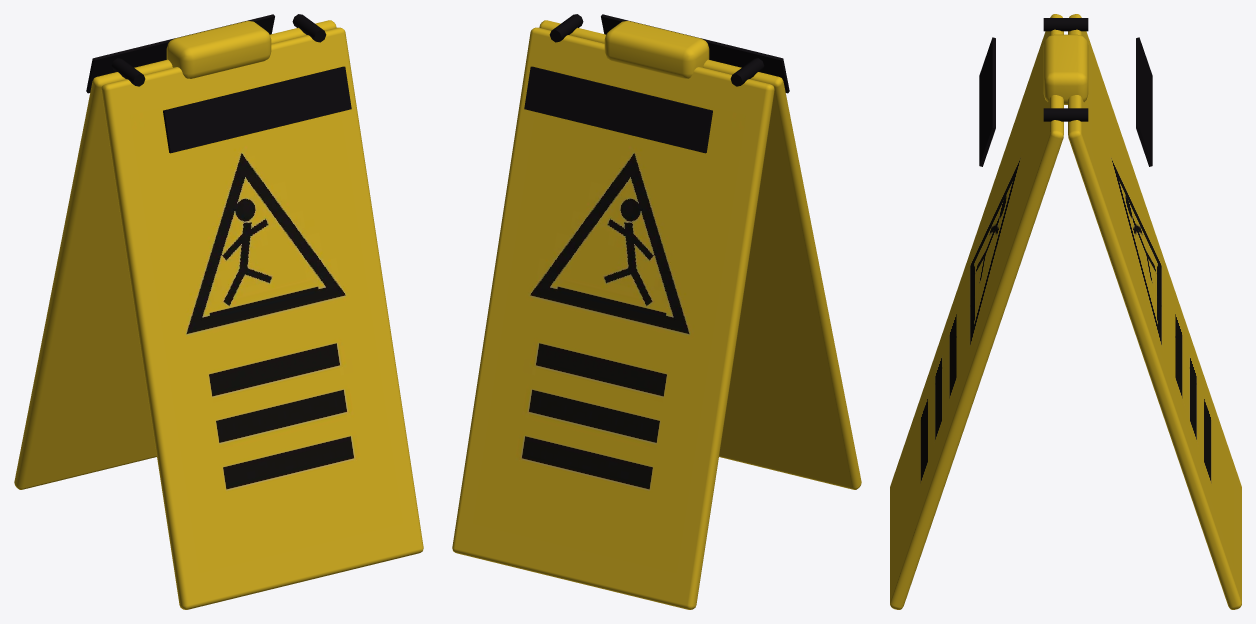
Rendered from wetsign.glb.
3 renders of one model, left to right at view 1: azimuth 30°, elevation 25°; view 2: azimuth 150°, elevation 25°; view 3: azimuth 270°, elevation 25°, orthographic. The views are drawn at different scales.
Parts seen in each view (by area): view 1: wetsign_wetFace, wetsign_yellowPlastic, wetsign_black; view 2: wetsign_wetFace, wetsign_yellowPlastic, wetsign_black; view 3: wetsign_wetFace, wetsign_yellowPlastic, wetsign_black.
Boxes of the visible parts, x1,y1,x2,y2 form: wetsign_wetFace: (130,66,402,572); wetsign_yellowPlastic: (14,20,423,609); wetsign_black: (86,14,351,153); wetsign_wetFace: (473,66,745,572); wetsign_yellowPlastic: (452,20,861,609); wetsign_black: (524,14,789,153); wetsign_wetFace: (897,51,1234,568); wetsign_yellowPlastic: (890,14,1241,609); wetsign_black: (979,18,1152,166).
Size of the model in its own units: 0.32 by 0.6169 by 0.3952.
Materials: 3 (1 with a texture image).
